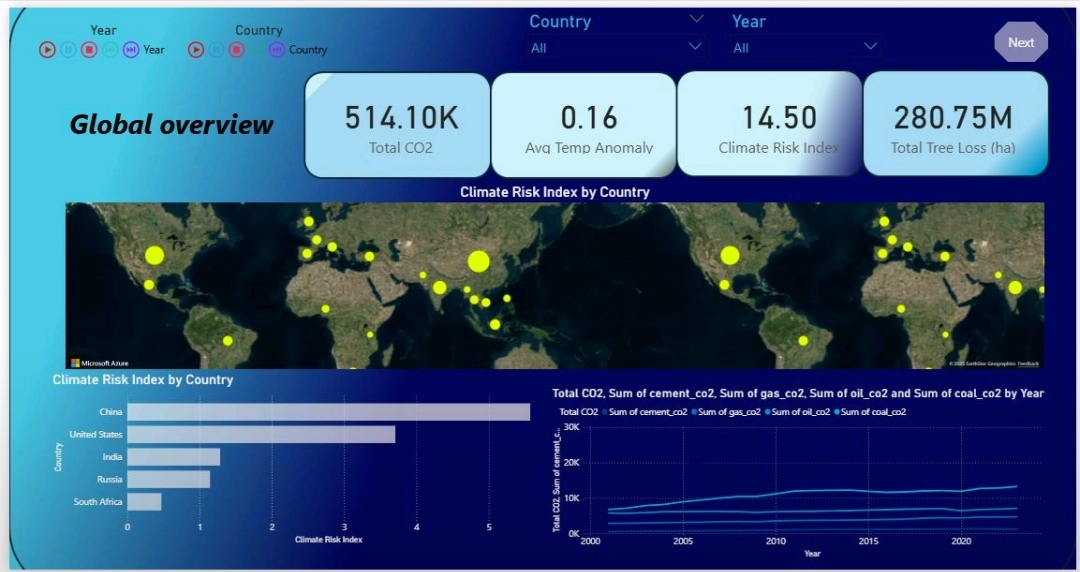

The dashboard page shown, as its layout file describes it:
{"tool":"powerbi","page":{"name":"Page 1","canvas":[1900,1000],"ordinal":0},"visuals":[{"type":"shape","box":[0,144,576,120],"z":0},{"type":"slicer","fields":{"Values":["Master Table.Country"]},"box":[912,0,336,120],"z":1000},{"type":"slicer","fields":{"Values":["Master Table.Year"]},"box":[1272,0,288,120],"z":2000},{"type":"azureMap","fields":{"Category":["Master Table.Country"],"Size":["Master Table.Climate Risk Index"]},"box":[1008,312,840,336],"z":3000},{"type":"barChart","fields":{"Category":["Master Table.Country"],"Y":["Master Table.Climate Risk Index"]},"box":[72,648,864,312],"z":4000},{"type":"lineChart","fields":{"Category":["Master Table.Year"],"Y":["Master Table.Total CO2","Sum(Master Table.cement_co2)","Sum(Master Table.gas_co2)","Sum(Master Table.oil_co2)","Sum(Master Table.coal_co2)"]},"box":[960,672,888,312],"z":5000},{"type":"actionButton","box":[1752,24,96,72],"z":6000},{"type":"card","fields":{"Values":["Master Table.Total CO2"]},"box":[552,144,288,120],"z":7000},{"type":"card","fields":{"Values":["Master Table.Avg Temp Anomaly"]},"box":[888,144,288,120],"z":8000},{"type":"card","fields":{"Values":["Master Table.Climate Risk Index"]},"box":[1200,144,288,120],"z":9000},{"type":"card","fields":{"Values":["Master Table.Total Tree Loss (ha)"]},"box":[1536,144,288,120],"z":10000},{"type":"PBI_CV_16948668_E17D_454B_8664_2F2C470EA8C1","fields":{"category":["Master Table.Year"]},"box":[48,24,240,72],"z":11000},{"type":"MapBySquillion","title":"Average Deforestation % and Co2_per_capita by Country","fields":{"category":["Master Table.Country"],"value":["Master Table.Avg DeforPct"],"bubble":["Sum(Master Table.co2_per_capita)"]},"box":[72,312,912,336],"z":12000}]}

Visuals, with their boxes in screenshot pixels (x1, y1, x2, y2), scaled from the page's 1900x1000 canvas onto the 1080x572 screenshot:
shape: {"left": 0, "top": 82, "right": 327, "bottom": 151}
slicer - Master Table.Country: {"left": 518, "top": 0, "right": 709, "bottom": 69}
slicer - Master Table.Year: {"left": 723, "top": 0, "right": 887, "bottom": 69}
azureMap - Master Table.Country x Master Table.Climate Risk Index: {"left": 573, "top": 178, "right": 1050, "bottom": 371}
barChart - Master Table.Country x Master Table.Climate Risk Index: {"left": 41, "top": 371, "right": 532, "bottom": 549}
lineChart - Master Table.Year x Master Table.Total CO2: {"left": 546, "top": 384, "right": 1050, "bottom": 563}
actionButton: {"left": 996, "top": 14, "right": 1050, "bottom": 55}
card - Master Table.Total CO2: {"left": 314, "top": 82, "right": 477, "bottom": 151}
card - Master Table.Avg Temp Anomaly: {"left": 505, "top": 82, "right": 668, "bottom": 151}
card - Master Table.Climate Risk Index: {"left": 682, "top": 82, "right": 846, "bottom": 151}
card - Master Table.Total Tree Loss (ha): {"left": 873, "top": 82, "right": 1037, "bottom": 151}
PBI_CV_16948668_E17D_454B_8664_2F2C470EA8C1 - Master Table.Year: {"left": 27, "top": 14, "right": 164, "bottom": 55}
"Average Deforestation % and Co2_per_capita by Country" MapBySquillion: {"left": 41, "top": 178, "right": 559, "bottom": 371}
